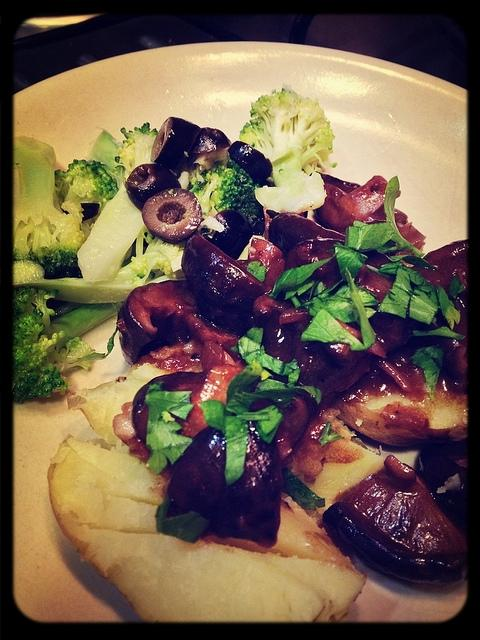broccoli: (12, 286, 124, 404), (76, 122, 158, 282), (48, 224, 188, 304), (240, 88, 336, 188), (188, 157, 264, 223), (54, 159, 118, 225)
lettuce: (224, 360, 264, 485), (145, 381, 194, 475), (384, 174, 424, 257), (269, 252, 338, 300), (226, 386, 322, 420), (232, 328, 298, 376), (300, 307, 366, 351), (308, 286, 380, 326), (155, 498, 210, 542), (412, 344, 446, 402), (282, 467, 326, 509), (376, 267, 412, 318), (344, 220, 394, 250), (333, 242, 368, 282), (255, 406, 284, 444), (247, 261, 266, 282)
mushroom: (322, 454, 466, 586), (164, 422, 282, 548), (116, 280, 250, 370), (132, 364, 244, 444), (182, 236, 264, 338), (315, 175, 401, 235), (280, 308, 340, 386), (412, 240, 467, 308), (269, 213, 346, 259), (301, 357, 370, 407), (275, 394, 311, 462), (368, 312, 407, 351), (450, 296, 466, 389)
